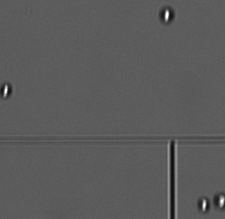Living Cell: (158, 4, 174, 26), (196, 196, 210, 213), (1, 82, 12, 101)
